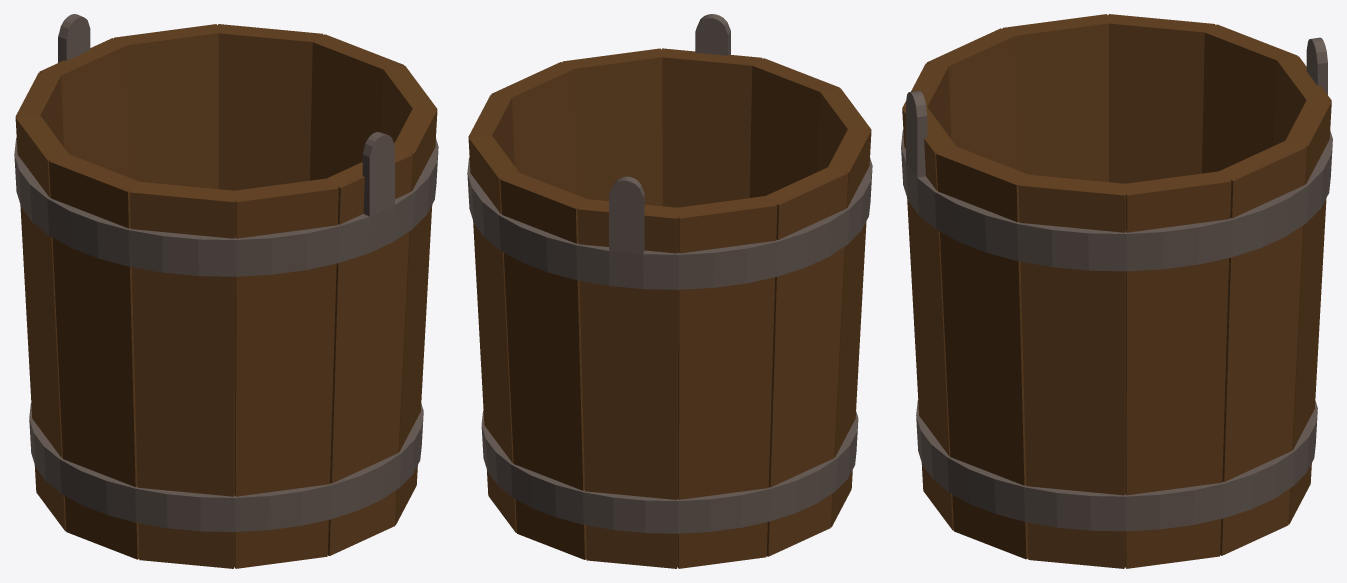
File: bucket.fbx
The picture shows the model from 3 angles, left to right: view 1: azimuth 30°, elevation 25°; view 2: azimuth 150°, elevation 25°; view 3: azimuth 270°, elevation 25°; orthographic projection. The views are drawn at different scales.
Parts seen in each view (by area): view 1: Cylinder.007; view 2: Cylinder.007; view 3: Cylinder.007.
Boxes of the visible parts, bbox=[...] form: Cylinder.007: bbox=[14, 14, 438, 568]; Cylinder.007: bbox=[467, 14, 872, 568]; Cylinder.007: bbox=[901, 14, 1332, 568].
Size of the model in its own units: 2.03 by 2.18 by 2.03.
